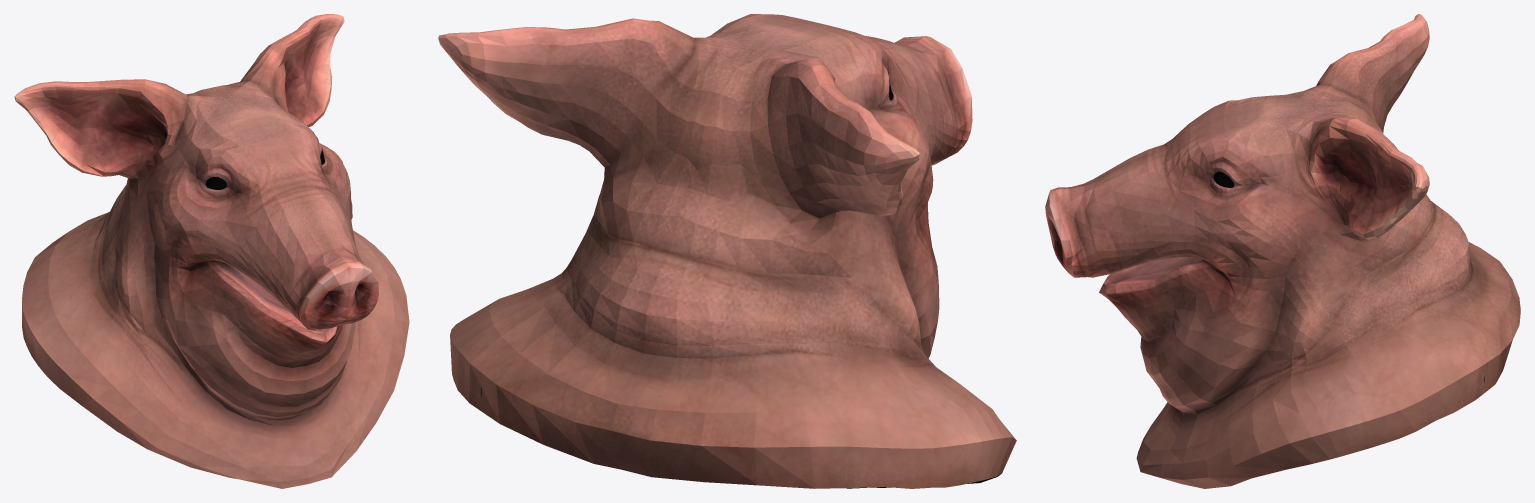
Rendered from pig.glb.
The picture shows the model from 3 angles, left to right: view 1: azimuth 30°, elevation 25°; view 2: azimuth 150°, elevation 25°; view 3: azimuth 270°, elevation 25°; orthographic projection. The views are drawn at different scales.
Parts seen in each view (by area): view 1: testgeometry_pighead1; view 2: testgeometry_pighead1; view 3: testgeometry_pighead1.
Part boxes in pixels (x1,y1,x2,y2): testgeometry_pighead1: (14, 14, 409, 488); testgeometry_pighead1: (438, 14, 1016, 488); testgeometry_pighead1: (1045, 14, 1520, 488).
Bounding box in the file's own units: 2 × 1.9 × 2.2.
1 material, 1 textured.
